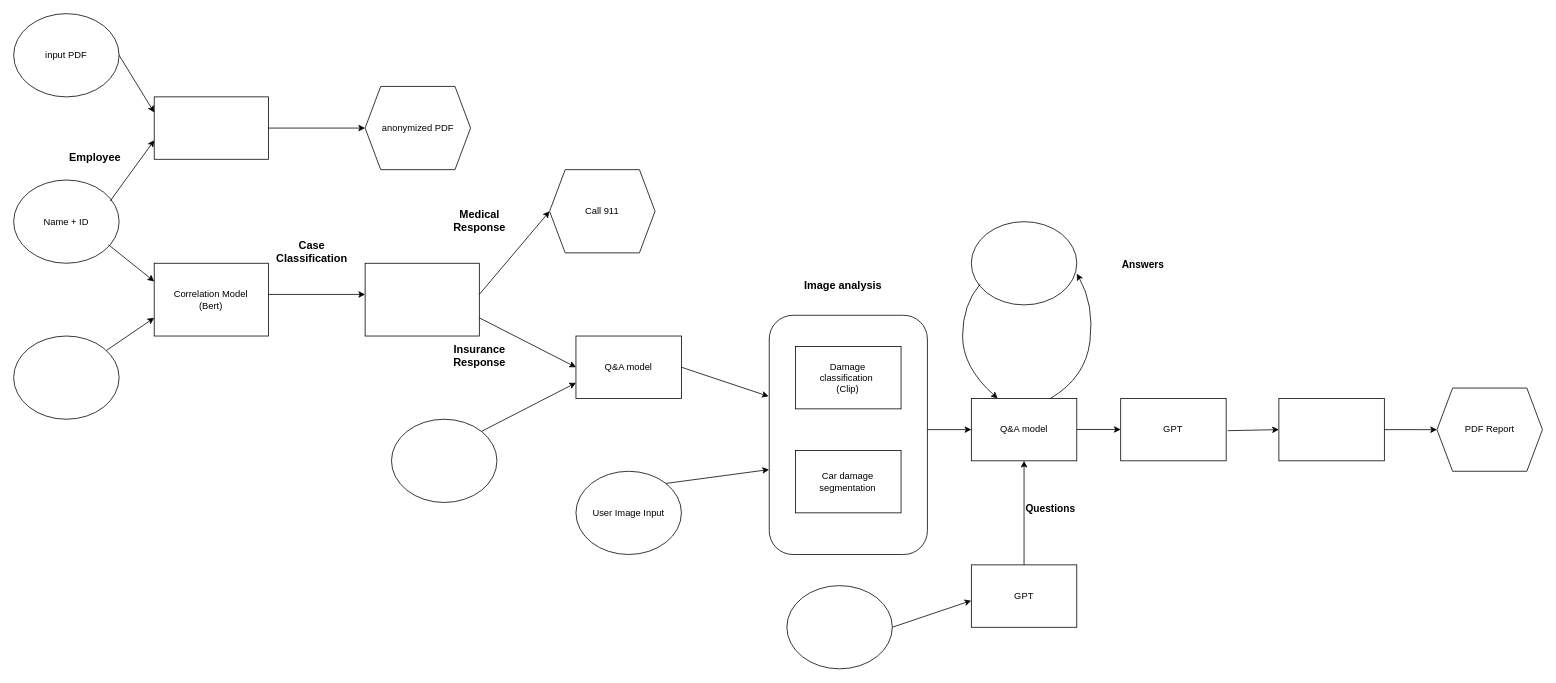
The diagram is 1556 pixels wide and 683 high, and some of its shapes have lost their labels. The centre of each missing label's shape, as x and y in pixels:
GCI: point (839, 627)
Named Entity Recognition (NER) model: point (210, 127)
PDF creator: point (1331, 429)
Q&A model + sentiment analysis: point (421, 299)
User answers: point (1024, 263)
User Input: point (66, 377)
User Story Input: point (444, 460)
